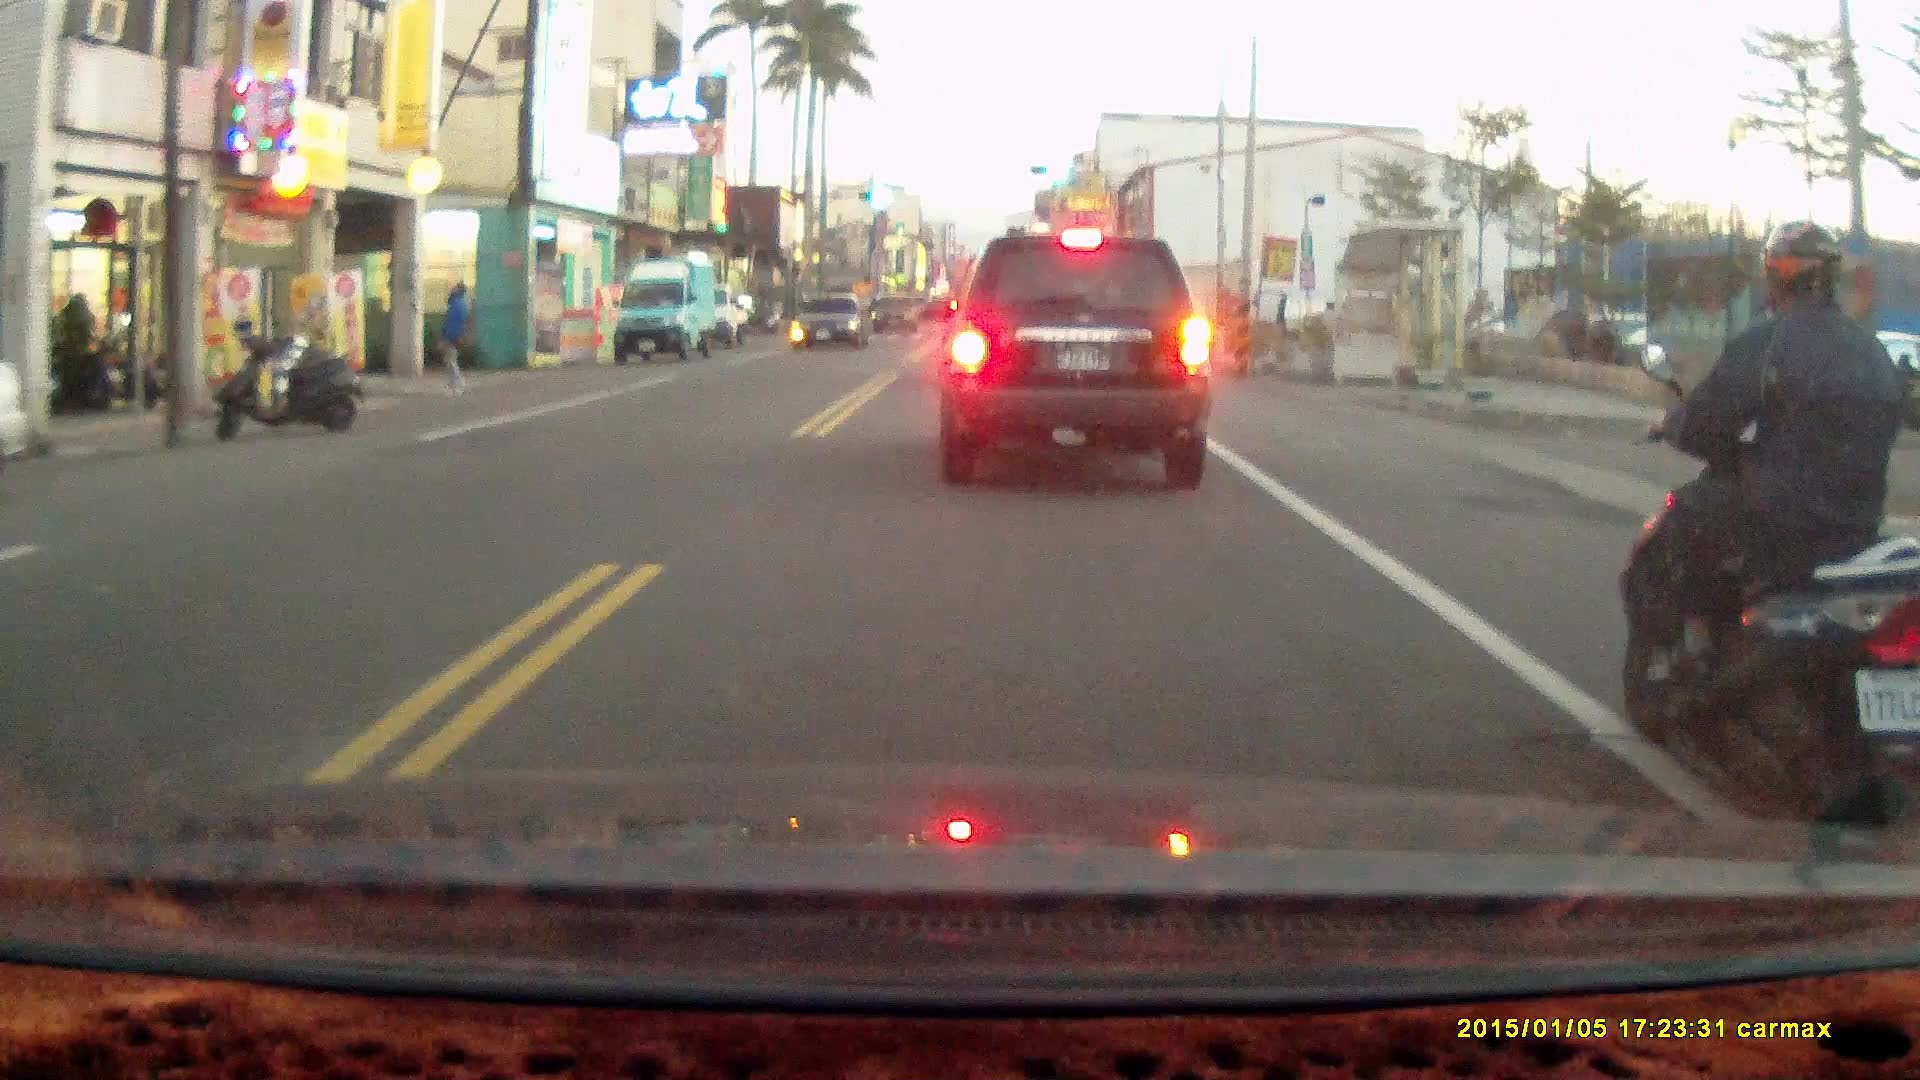pedestrian: (439, 277, 473, 394)
rider: (1619, 217, 1920, 844)
vehicle: (934, 228, 1216, 482), (610, 258, 721, 366), (1, 364, 38, 503), (793, 293, 877, 351), (871, 293, 922, 333)
